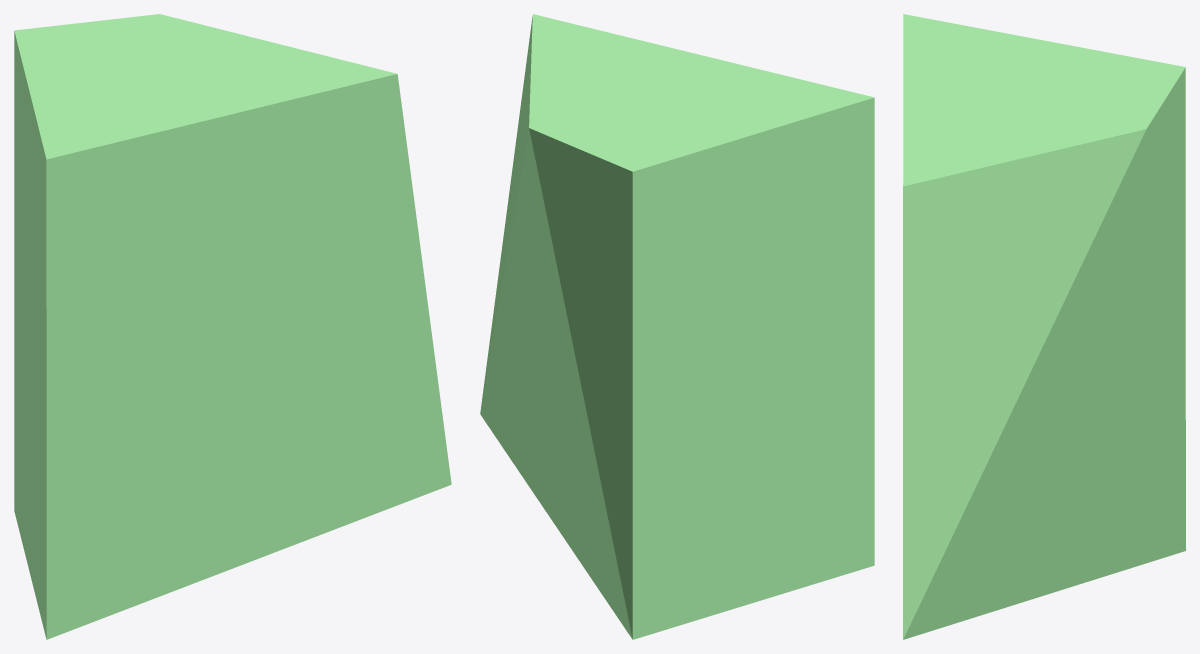
File: dvkr_robot_Lp1_respondable_PSM2_coll_1.dae
3 views of the same model, side by side, from view 1: azimuth 30°, elevation 25°; view 2: azimuth 150°, elevation 25°; view 3: azimuth 270°, elevation 25° (orthographic). The views are drawn at different scales.
Visible parts, largest first — view 1: Node_0000023514CDA040; view 2: Node_0000023514CDA040; view 3: Node_0000023514CDA040.
Boxes of the visible parts, x1,y1,x2,y2 form: Node_0000023514CDA040: (14,14,451,639); Node_0000023514CDA040: (480,14,874,639); Node_0000023514CDA040: (903,14,1185,639).
Bounding box in the file's own units: 0.015 × 0.017 × 0.009.
